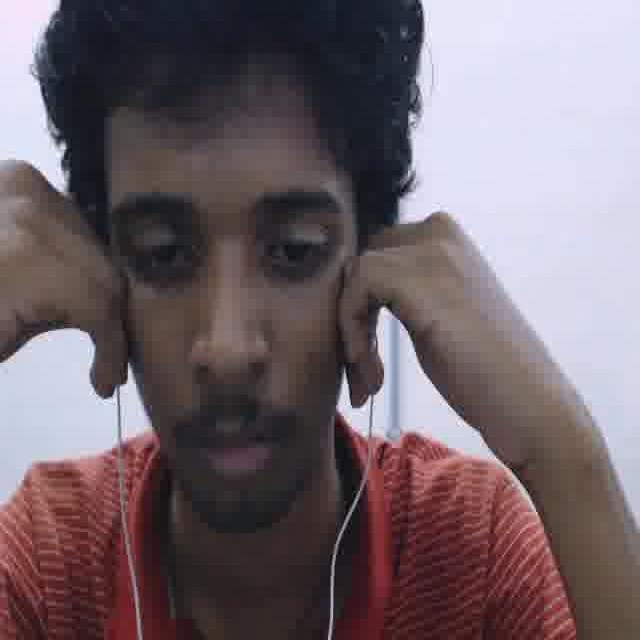Frustration: (92, 71, 354, 492)
